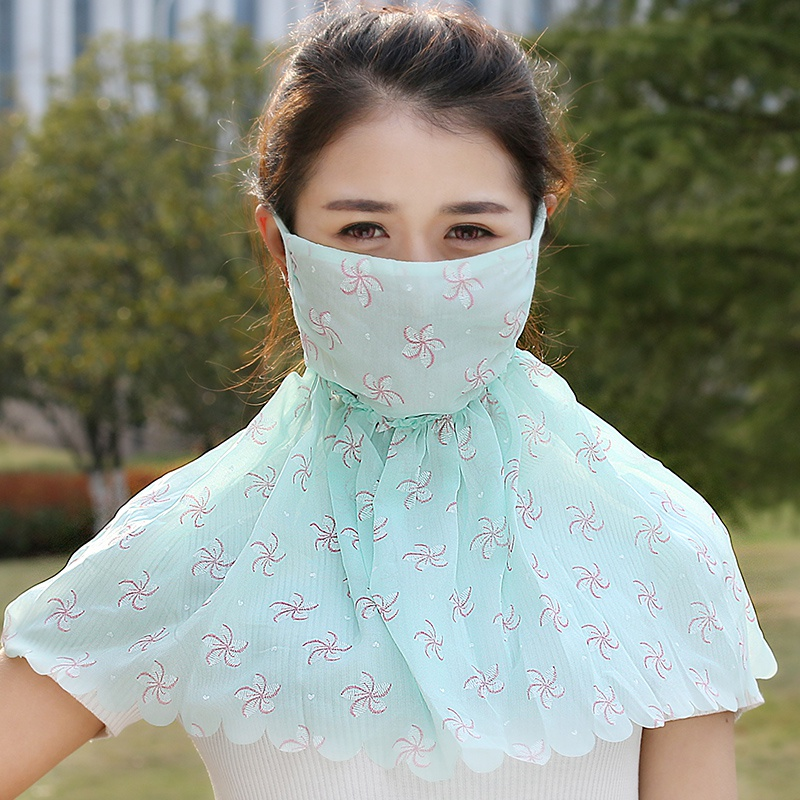face_mask: (293, 104, 531, 402)
